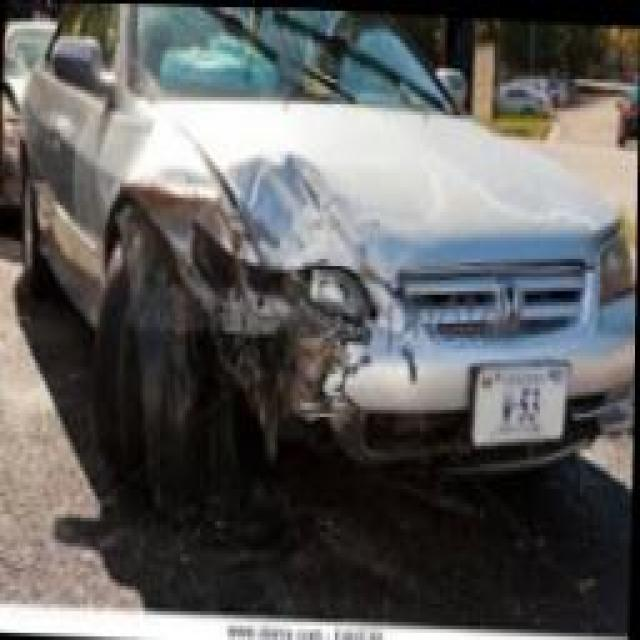Bonnet: (165, 99, 479, 274)
Bumper: (194, 273, 451, 469)
Light: (195, 226, 377, 324)
